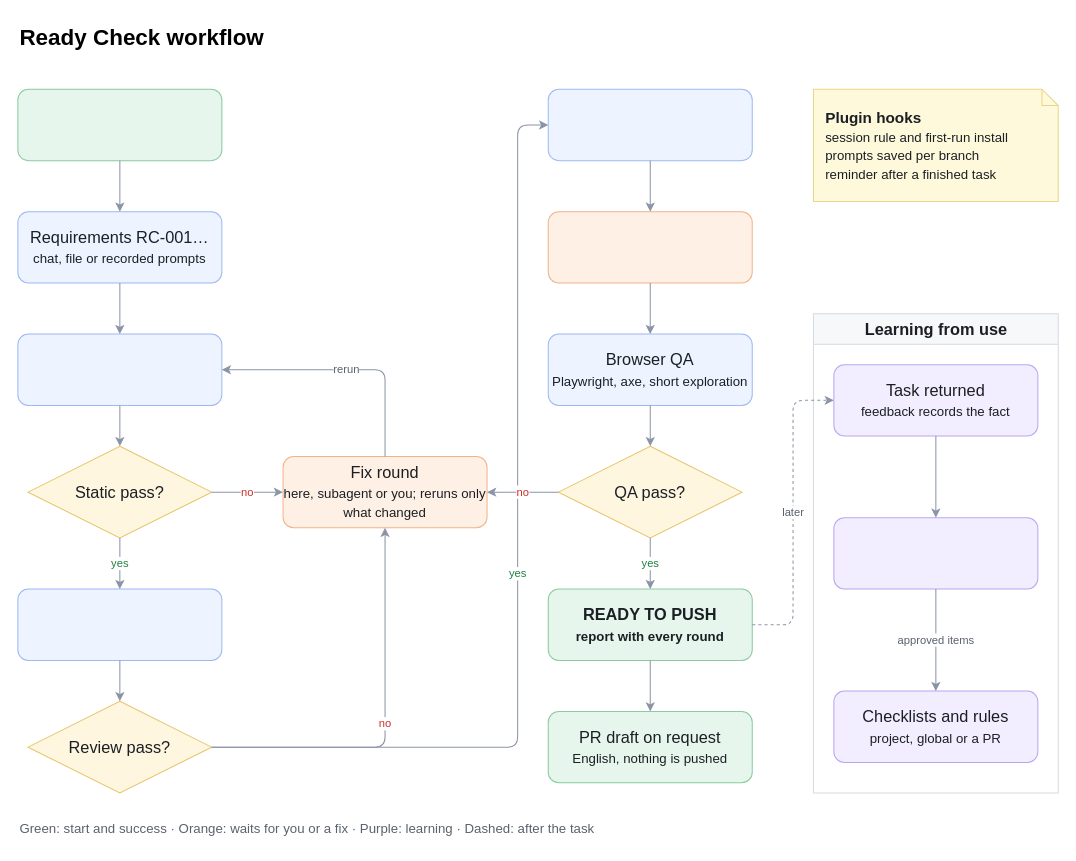
The diagram is 1076 pixels wide and 861 high, and some of its shapes have lost their labels. Here are the shapes that lost their labels. From the top down, the box of each, then its label:
(17, 88, 222, 161): Task finished in the chat hook offers a check, asks first
(547, 88, 752, 161): QA plan risks, test techniques, oracles
(547, 211, 752, 283): You approve the plan visible or background browser
(17, 333, 222, 405): Static checks profile linters, task lines only
(833, 517, 1038, 589): Reflect overview, HTML charts, proposals
(17, 588, 222, 660): Review RCs, checklist, security, your rules
